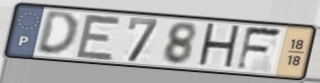7: (125, 16, 162, 64)
8: (161, 20, 199, 67)
D: (34, 10, 80, 58)
E: (73, 12, 124, 62)
F: (234, 25, 285, 73)
H: (195, 22, 243, 72)
